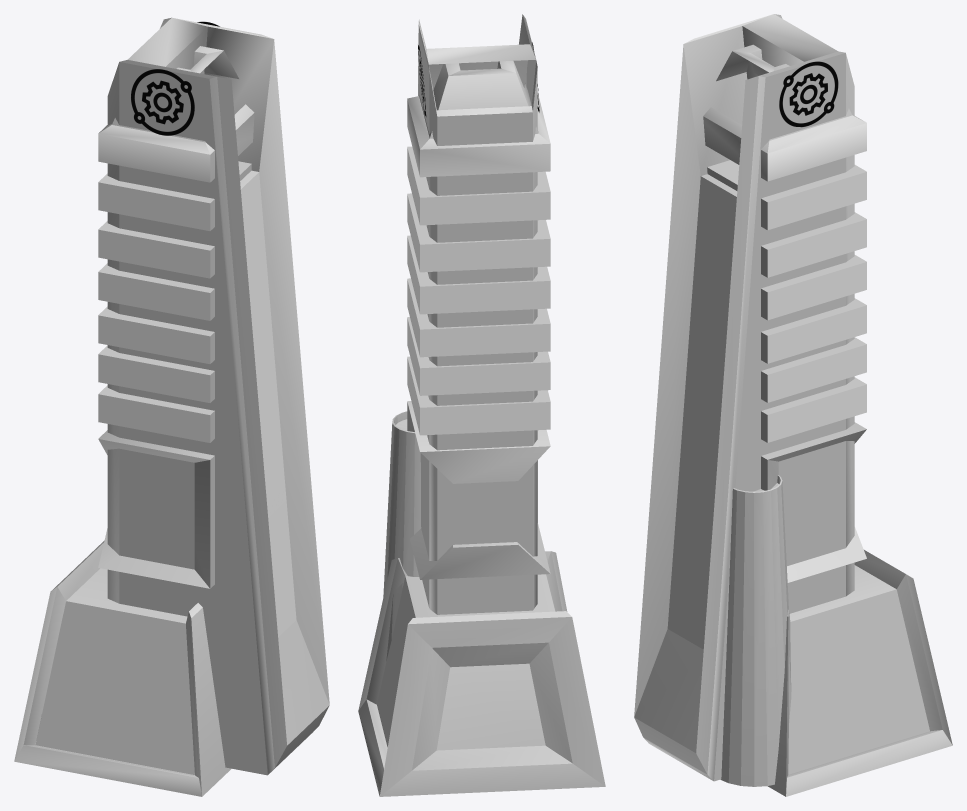
File: sixth building.glb
The picture shows the model from 3 angles, left to right: view 1: azimuth 30°, elevation 25°; view 2: azimuth 150°, elevation 25°; view 3: azimuth 270°, elevation 25°; orthographic projection.
Parts seen in each view (by area): view 1: Downtown Center City.267, 5065205; view 2: Downtown Center City.267; view 3: Downtown Center City.267, 5065205.001.
Part boxes in pixels (<box>): Downtown Center City.267: <box>14,17,329,796</box>; 5065205: <box>131,69,194,135</box>; Downtown Center City.267: <box>358,14,605,796</box>; Downtown Center City.267: <box>634,14,952,796</box>; 5065205.001: <box>779,61,838,127</box>.
Size of the model in its own units: 3.03 by 7.61 by 3.14.
Materials: 5 (2 with a texture image).
